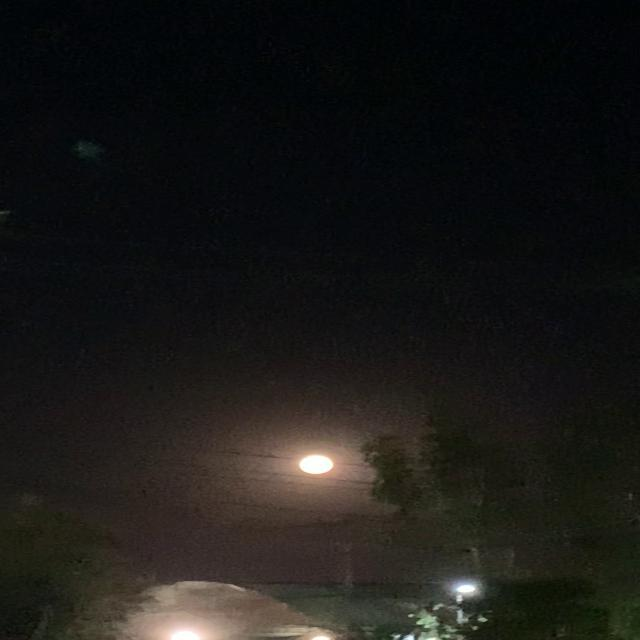moon: (301, 453, 354, 479)
